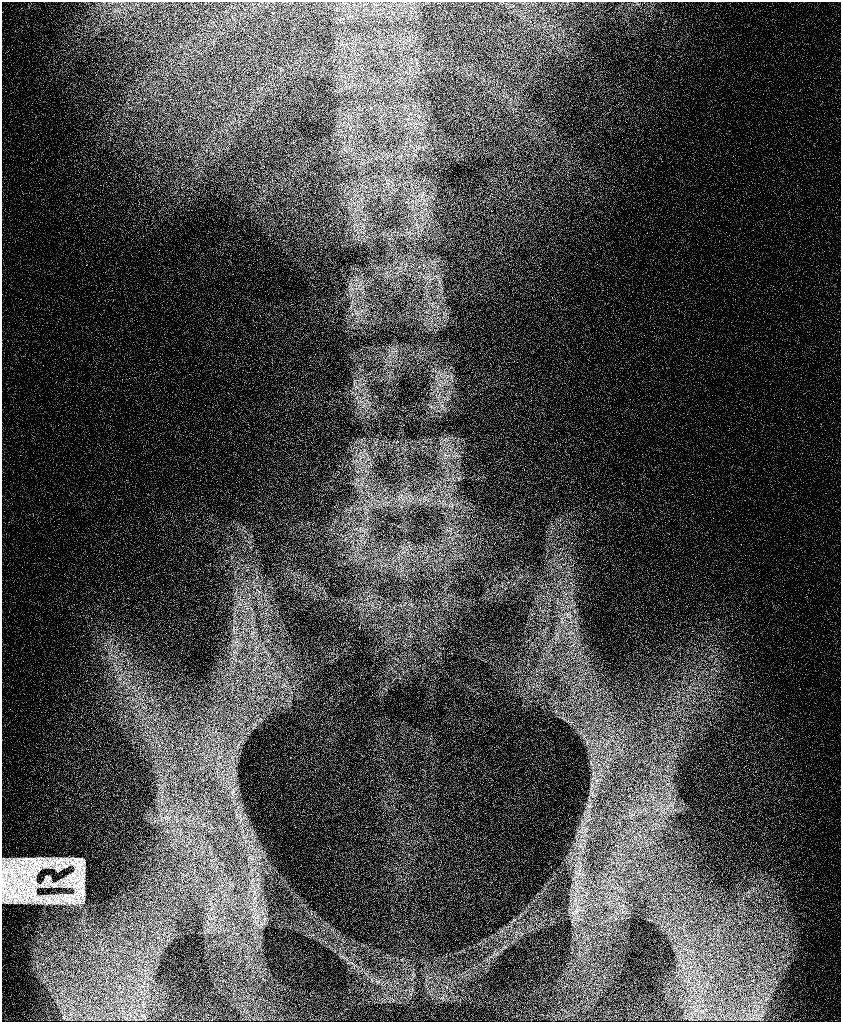lumbar scoliosis: (331, 105, 475, 622)
